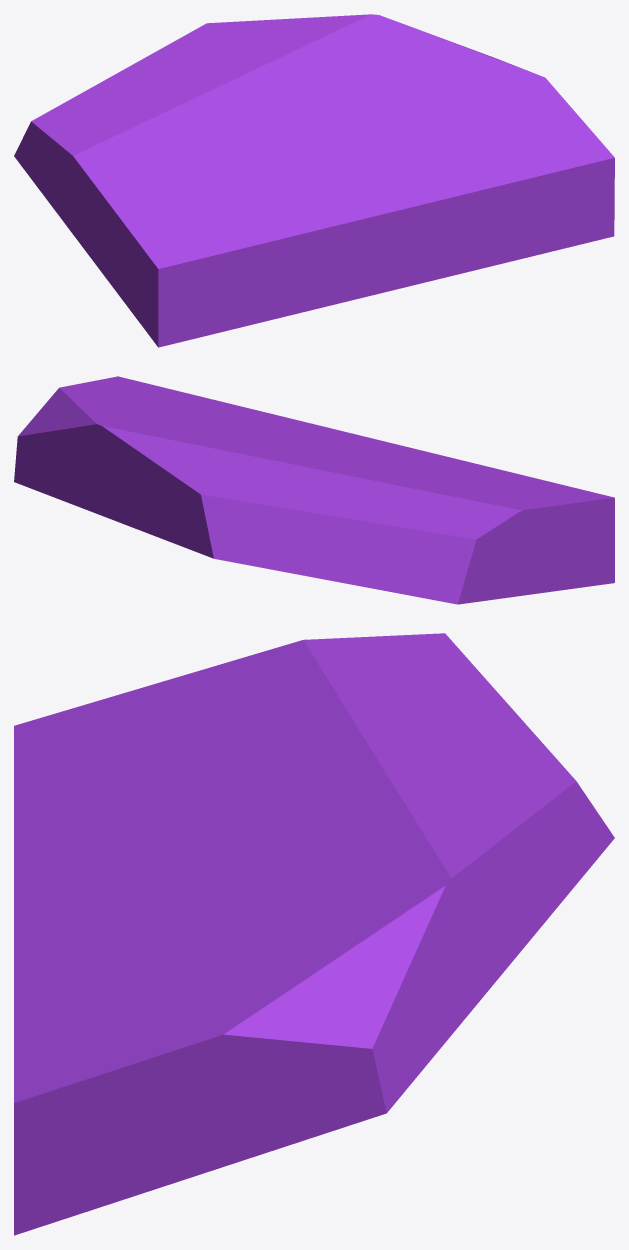
Rendered from Window_144_3_chunks.fbx.
3 views of the same model, one above another, from view 1: azimuth 30°, elevation 25°; view 2: azimuth 150°, elevation 25°; view 3: azimuth 270°, elevation 25° (orthographic). The views are drawn at different scales.
Visible parts, largest first — view 1: Window_144_3_3, Window_144_3_1, Window_144_3_0, Window_144_3_2; view 2: Window_144_3_2, Window_144_3_3, Window_144_3_0, Window_144_3_1; view 3: Window_144_3_1, Window_144_3_3, Window_144_3_0, Window_144_3_2.
Part boxes in pixels (x1,y1,x2,y2): Window_144_3_3: (39, 81, 412, 347); Window_144_3_1: (344, 48, 614, 296); Window_144_3_0: (183, 14, 467, 109); Window_144_3_2: (14, 36, 224, 229); Window_144_3_2: (154, 468, 518, 604); Window_144_3_3: (255, 430, 614, 595); Window_144_3_0: (36, 405, 301, 535); Window_144_3_1: (14, 376, 336, 504); Window_144_3_1: (14, 866, 453, 1235); Window_144_3_3: (14, 634, 415, 936); Window_144_3_0: (261, 761, 588, 1032); Window_144_3_2: (387, 633, 614, 919).
Size of the model in its own units: 610 by 198 by 411.
